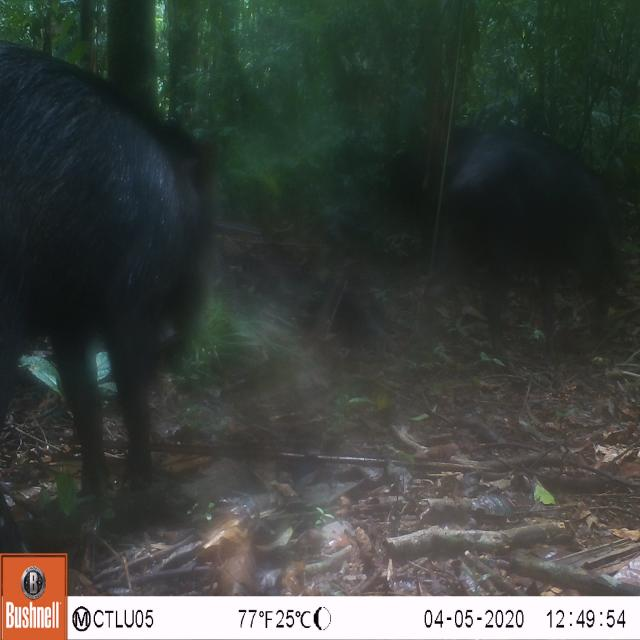White-lipped Peccary: (0, 27, 216, 512), (418, 111, 632, 376)
